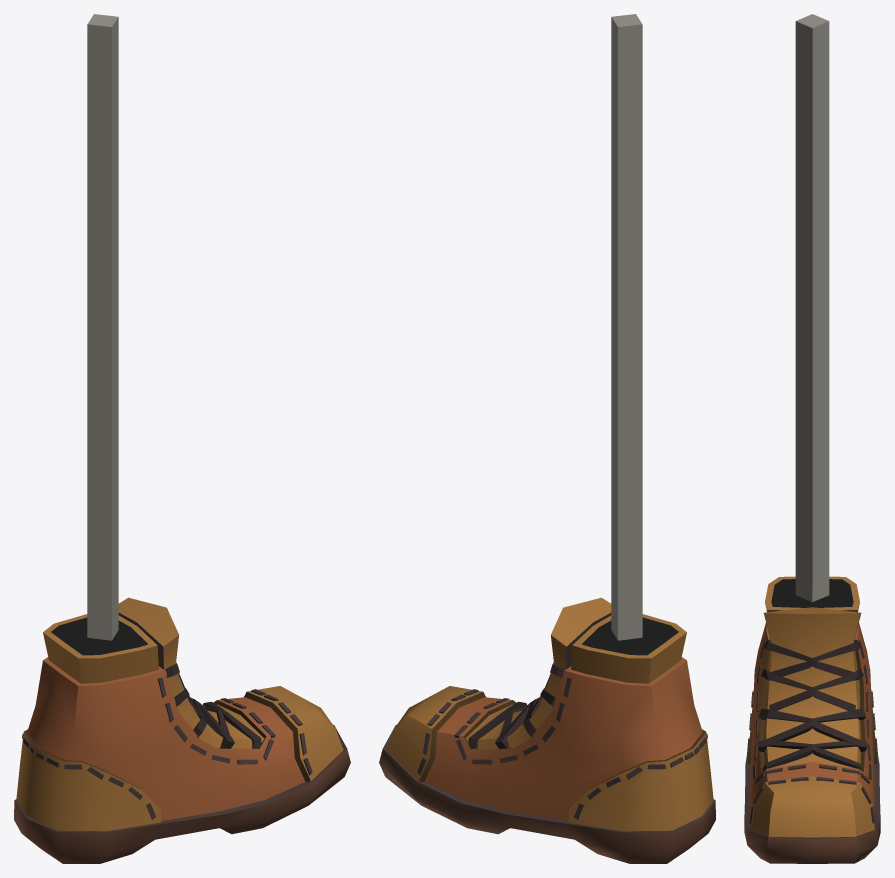
File: Boot.fbx
3 views of the same model, side by side, from view 1: azimuth 30°, elevation 25°; view 2: azimuth 150°, elevation 25°; view 3: azimuth 270°, elevation 25° (orthographic). The views are drawn at different scales.
Parts seen in each view (by area): view 1: Boot; view 2: Boot; view 3: Boot.
Part boxes in pixels (left/top/right/bottom): Boot: left=14, top=14, right=350, bottom=863; Boot: left=379, top=14, right=715, bottom=863; Boot: left=744, top=14, right=880, bottom=863.
Bounding box in the file's own units: 1.8 × 4.57 × 0.7336.
